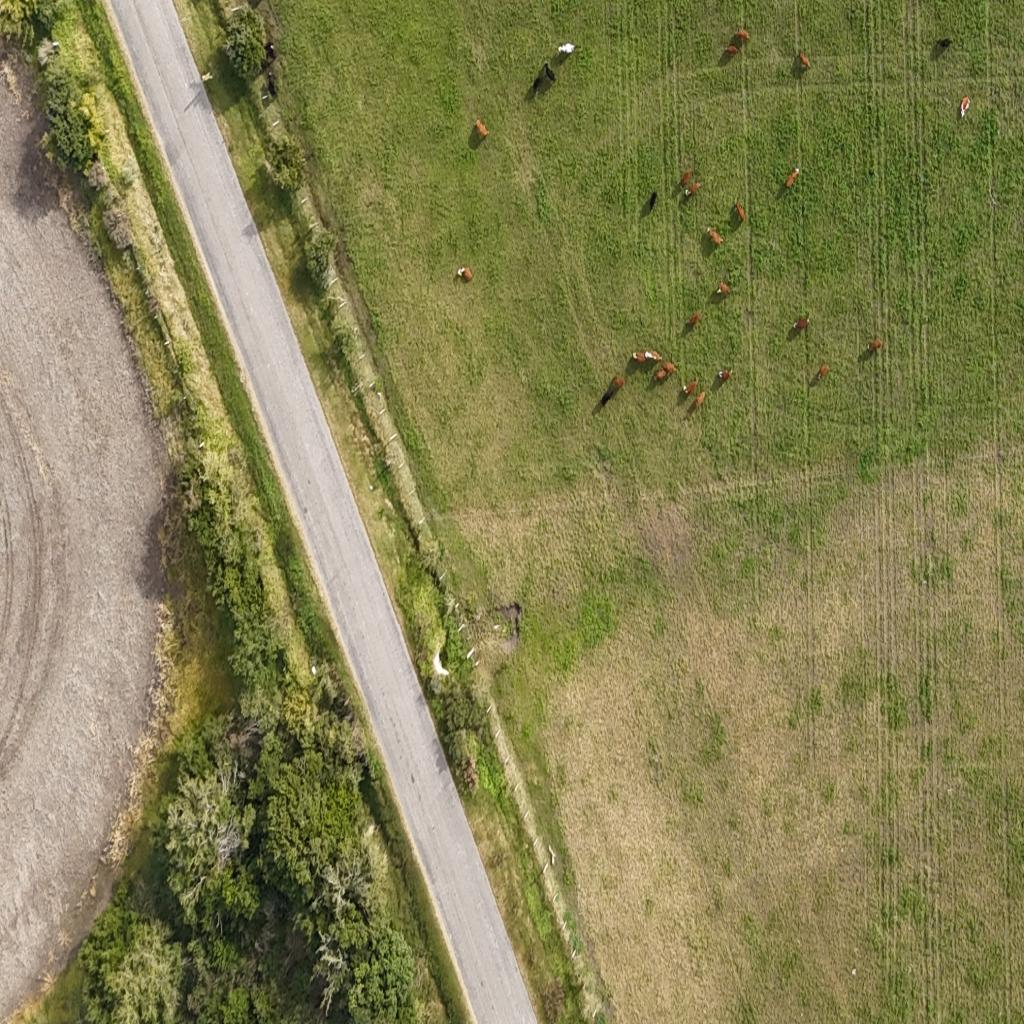cow: (555, 39, 576, 61), (598, 386, 616, 411), (686, 392, 707, 412), (265, 68, 277, 99), (725, 40, 742, 60), (707, 228, 724, 248), (682, 380, 701, 397), (733, 26, 750, 45), (475, 118, 489, 140), (786, 166, 799, 189), (686, 311, 702, 329), (457, 264, 473, 282), (934, 38, 952, 54), (687, 179, 702, 198), (646, 349, 662, 366), (793, 316, 810, 332), (544, 62, 556, 84), (735, 200, 746, 224), (646, 190, 657, 214), (662, 361, 677, 378), (652, 369, 667, 385), (717, 366, 732, 382), (681, 170, 693, 190), (868, 338, 882, 355), (632, 350, 648, 364), (716, 280, 730, 296), (816, 364, 830, 380), (960, 96, 970, 118), (611, 376, 625, 391), (799, 49, 810, 68), (266, 43, 276, 63), (532, 74, 541, 94)
